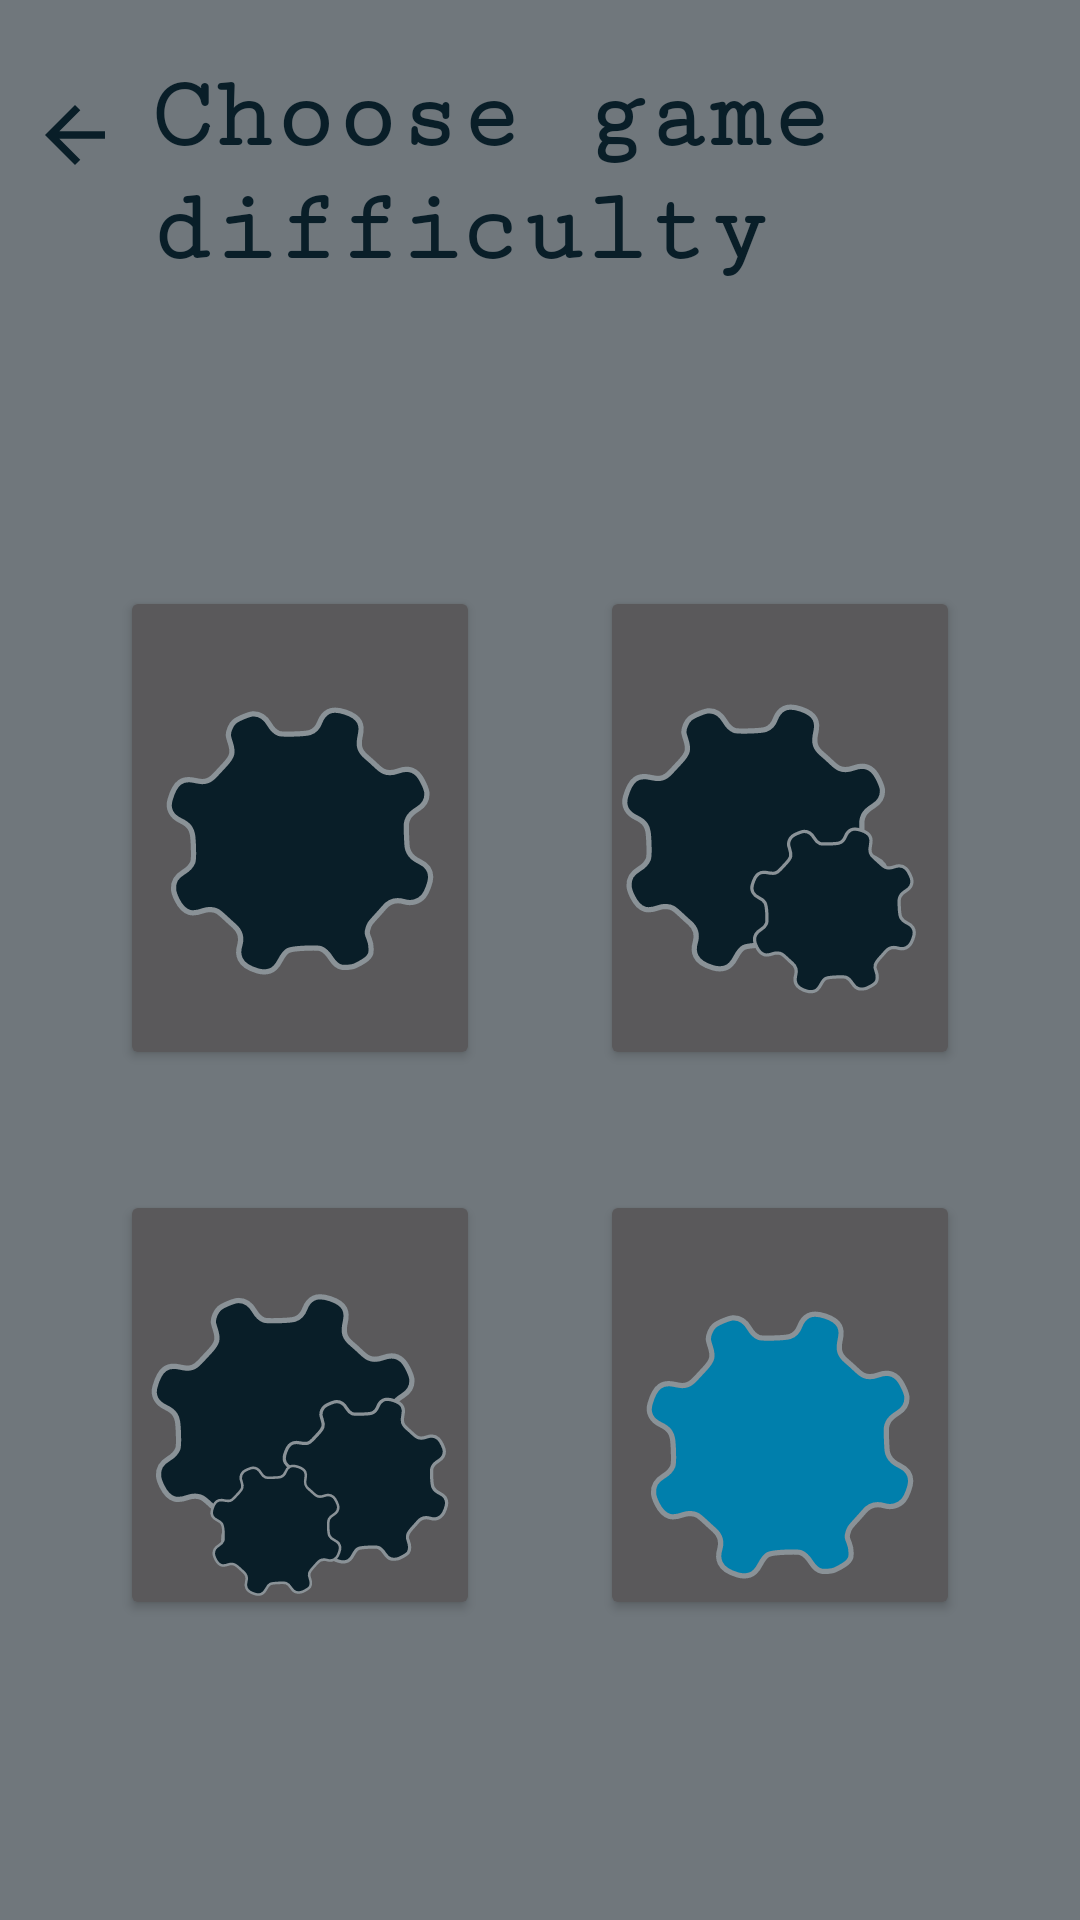

Screen size 1080x1920. Icon name, then its box in pixels as bbox=[x1, y1, x2, y2]:
arrow back: bbox=[45, 105, 105, 165]
